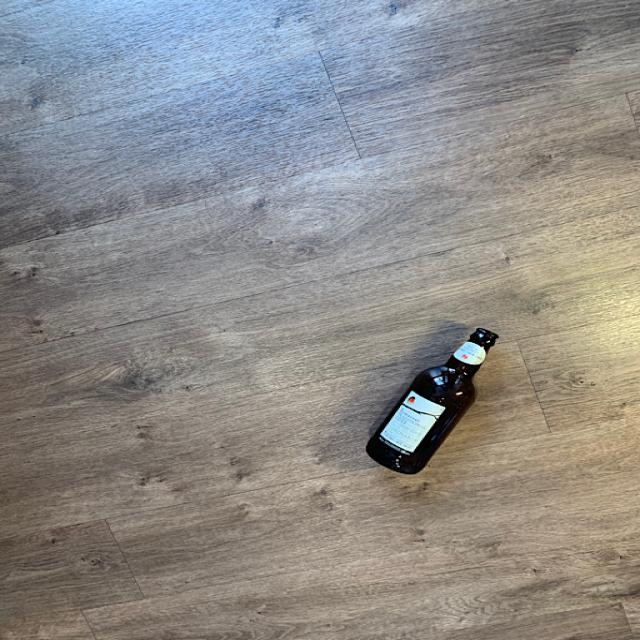litter: (358, 324, 503, 484)
